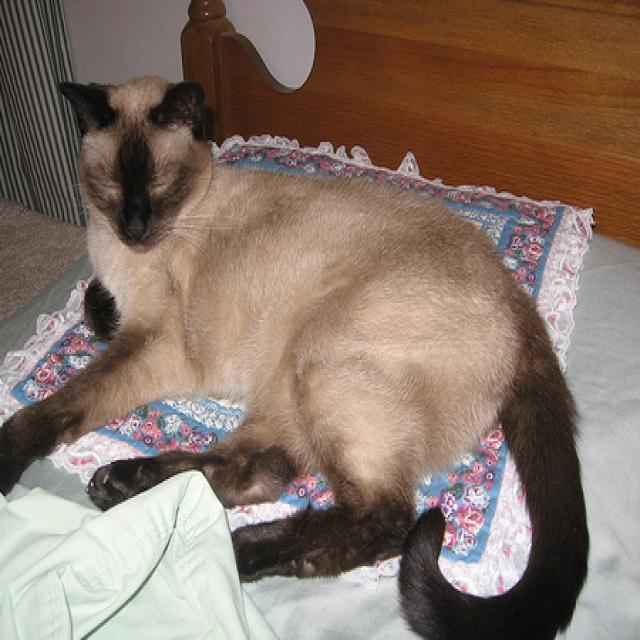Siamese: (0, 70, 593, 640)
